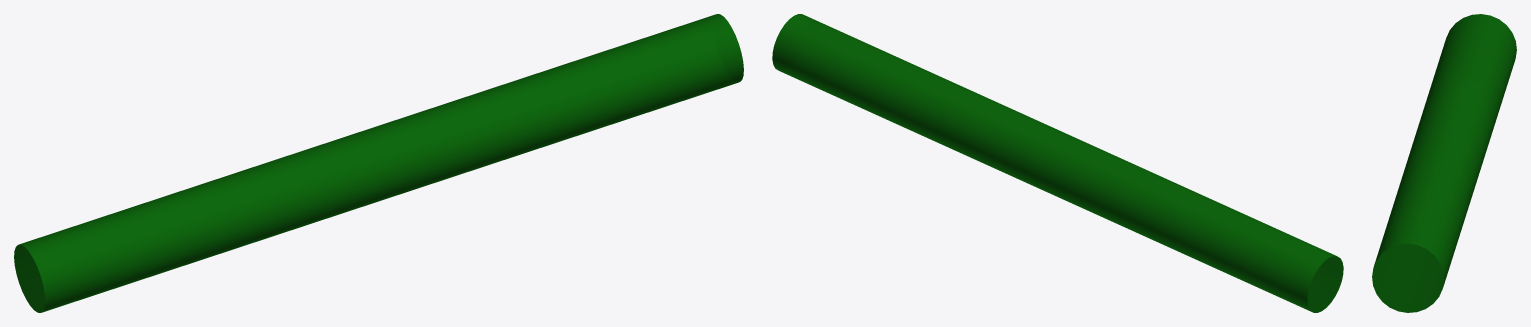
File: Event_194851961_jet_4.fbx
3 views of the same model, side by side, from view 1: azimuth 30°, elevation 25°; view 2: azimuth 150°, elevation 25°; view 3: azimuth 270°, elevation 25° (orthographic). The views are drawn at different scales.
Visible parts, largest first — view 1: Model; view 2: Model; view 3: Model.
Boxes of the visible parts, x1,y1,x2,y2 form: Model: (14,14,743,312); Model: (772,14,1343,312); Model: (1372,14,1516,312).
Bounding box in the file's own units: 0.4319 × 0.0982 × 0.0799.
